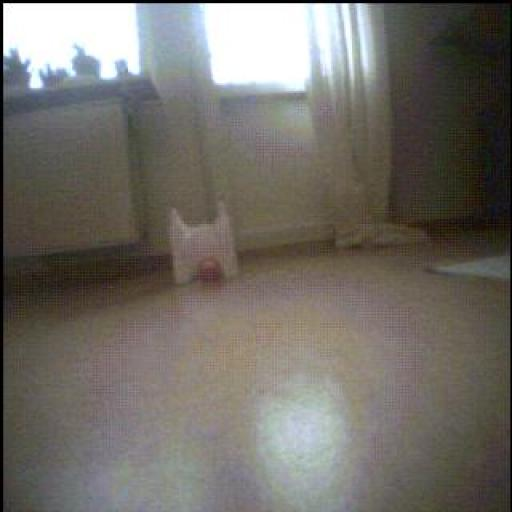Basket: (195, 255, 224, 287)
